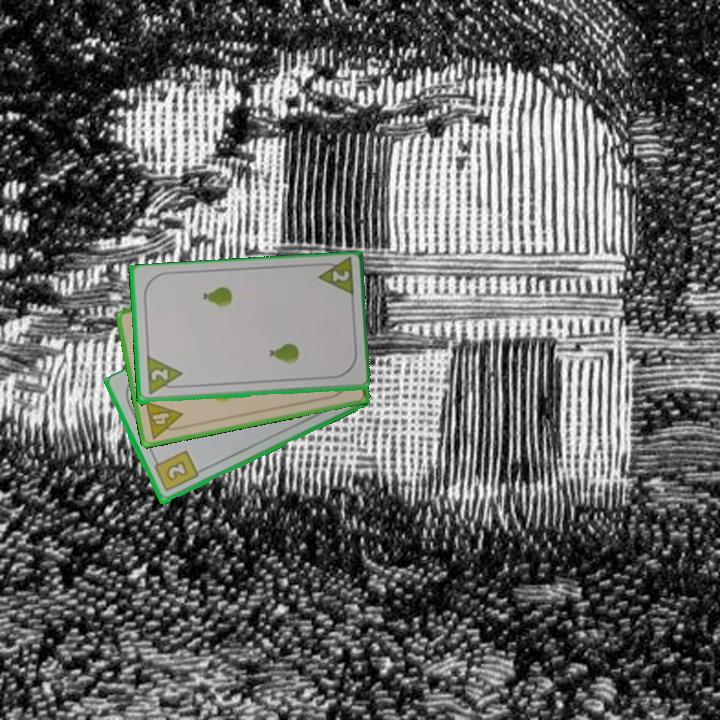2b: (150, 447, 201, 495)
2p: (313, 256, 356, 301), (143, 354, 185, 398)
4p: (142, 397, 188, 441)
